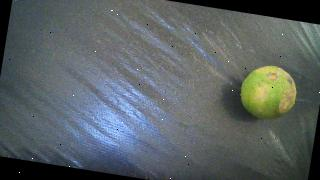DESECHO: (237, 62, 300, 123)
